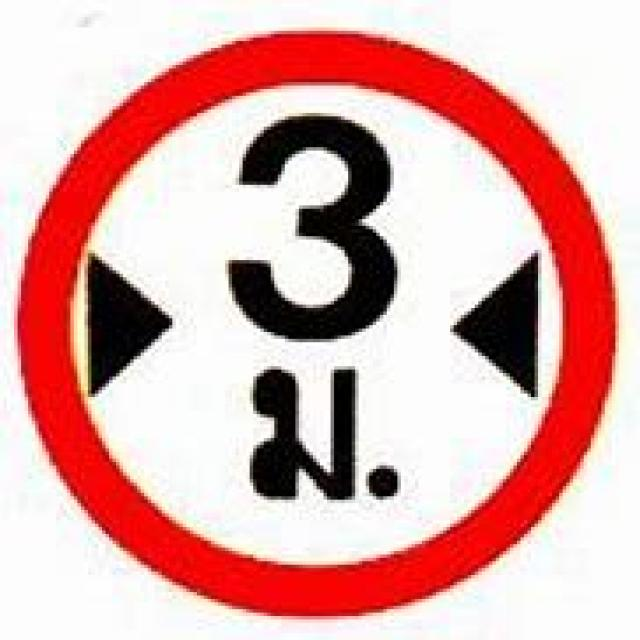do_not_u_turn: (17, 24, 612, 613)
